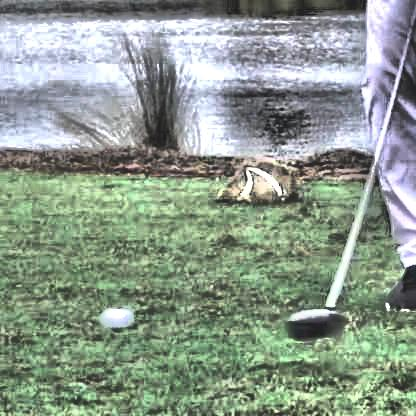golfball: (99, 302, 133, 330)
